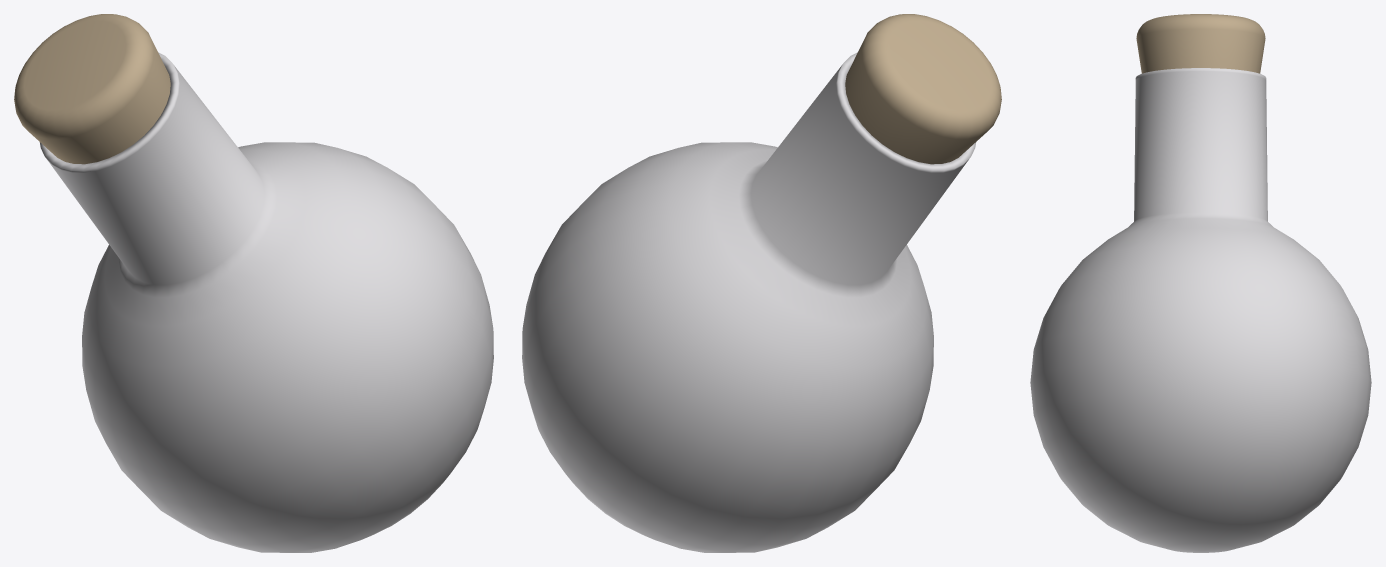
File: F_potion_bottle_green.fbx
The picture shows the model from 3 angles, left to right: view 1: azimuth 30°, elevation 25°; view 2: azimuth 150°, elevation 25°; view 3: azimuth 270°, elevation 25°; orthographic projection. The views are drawn at different scales.
Visible parts, largest first — view 1: Sphere, bottle cap; view 2: Sphere, bottle cap; view 3: Sphere, bottle cap.
Part boxes in pixels (x1,y1,x2,y2): Sphere: [39, 52, 493, 552]; bottle cap: [14, 14, 170, 164]; Sphere: [522, 52, 976, 552]; bottle cap: [845, 14, 1001, 164]; Sphere: [1030, 68, 1371, 552]; bottle cap: [1136, 14, 1265, 73].
Bounding box in the file's own units: 88.75 × 106 × 72.06.
